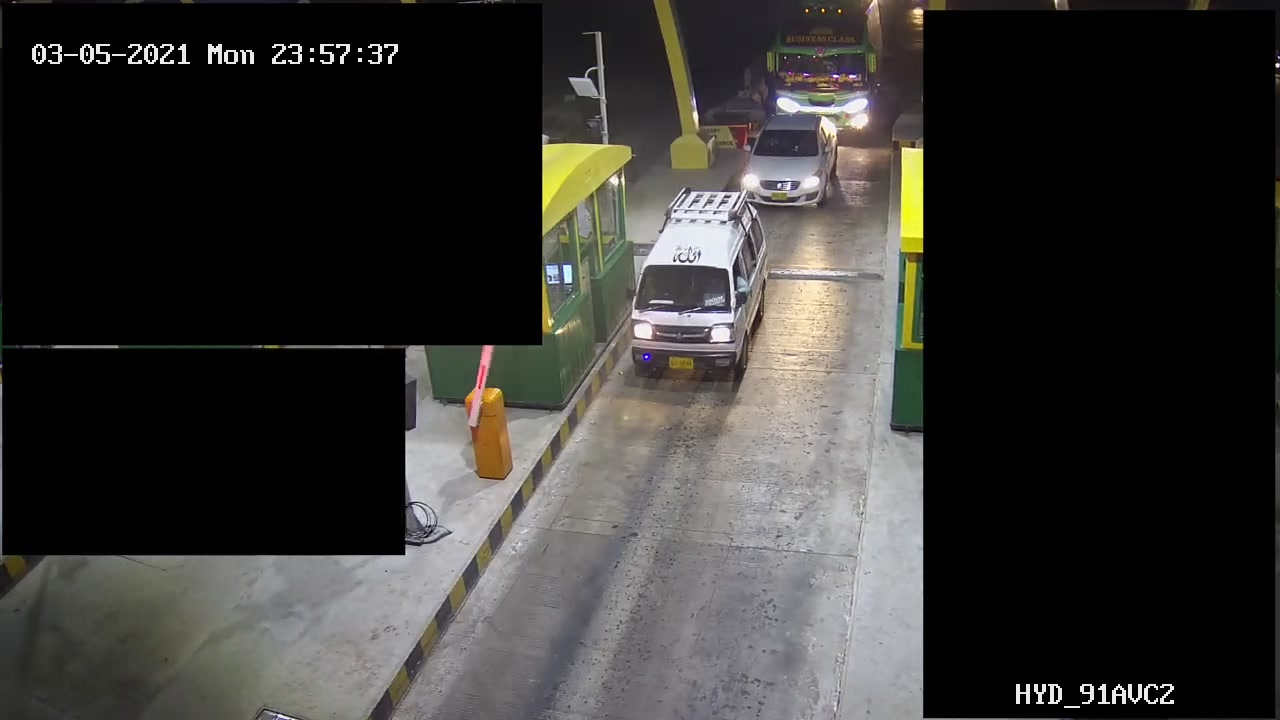F1: (628, 187, 766, 391)
